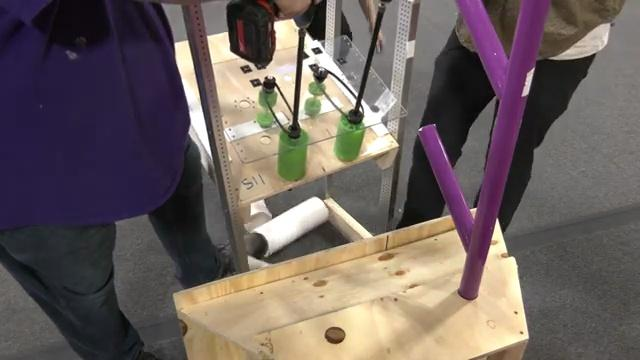CORAL: (243, 195, 330, 258)
